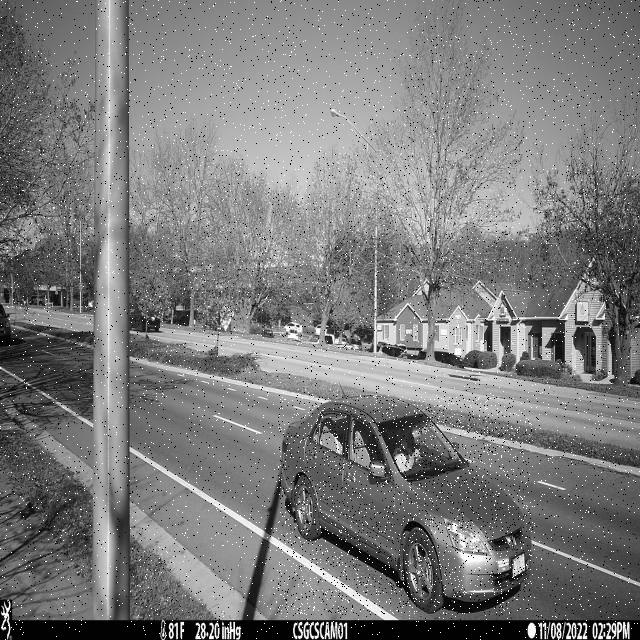Sedan: (278, 395, 532, 615)
